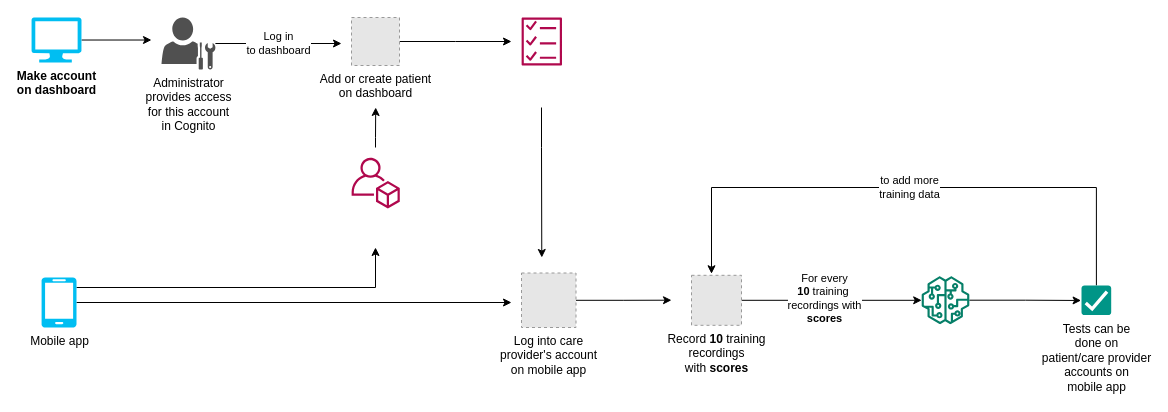
This 1168x412 diagram has some shape labels left out. Grey dashed boxes stand in for pictures. The shapes that lost their labels are listed below. From the top down, each one's box as (x1, y1, x2, y2) in pixels, then its label:
(521, 17, 562, 65): Assign test to new patient on dashboard
(351, 157, 399, 208): Patient makes account on mobile app
(921, 276, 969, 324): New machine learning model is made 5-10 min later
